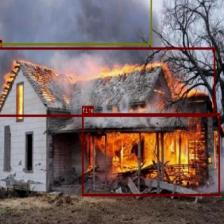fire: (0, 47, 215, 116), (82, 113, 219, 195)
smoke: (0, 0, 151, 45)
